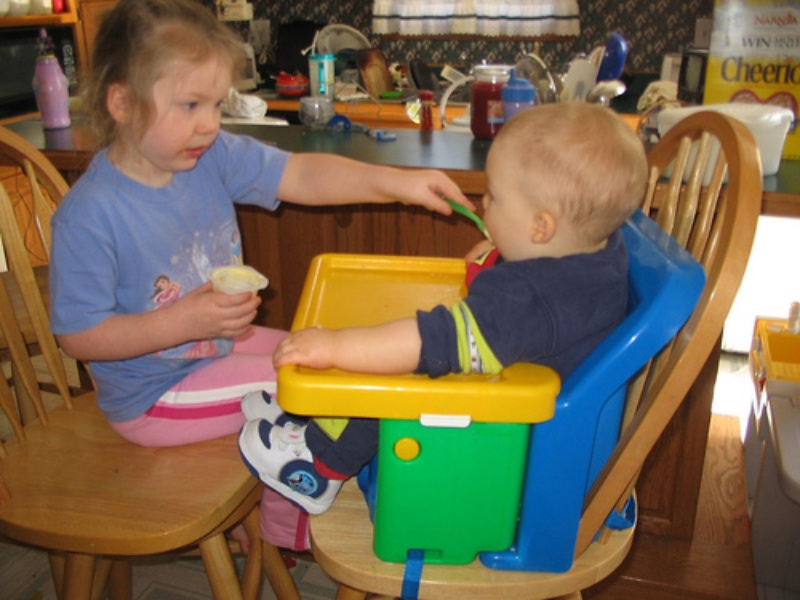person: (48, 1, 478, 549), (240, 105, 650, 513)
